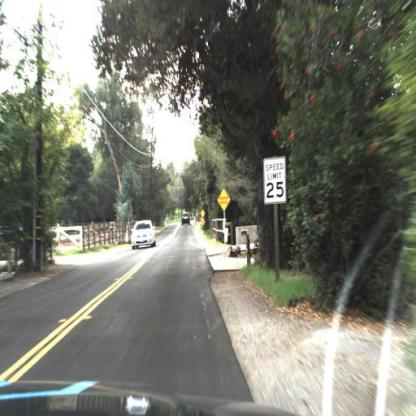car: (131, 221, 158, 252), (181, 212, 192, 227)
